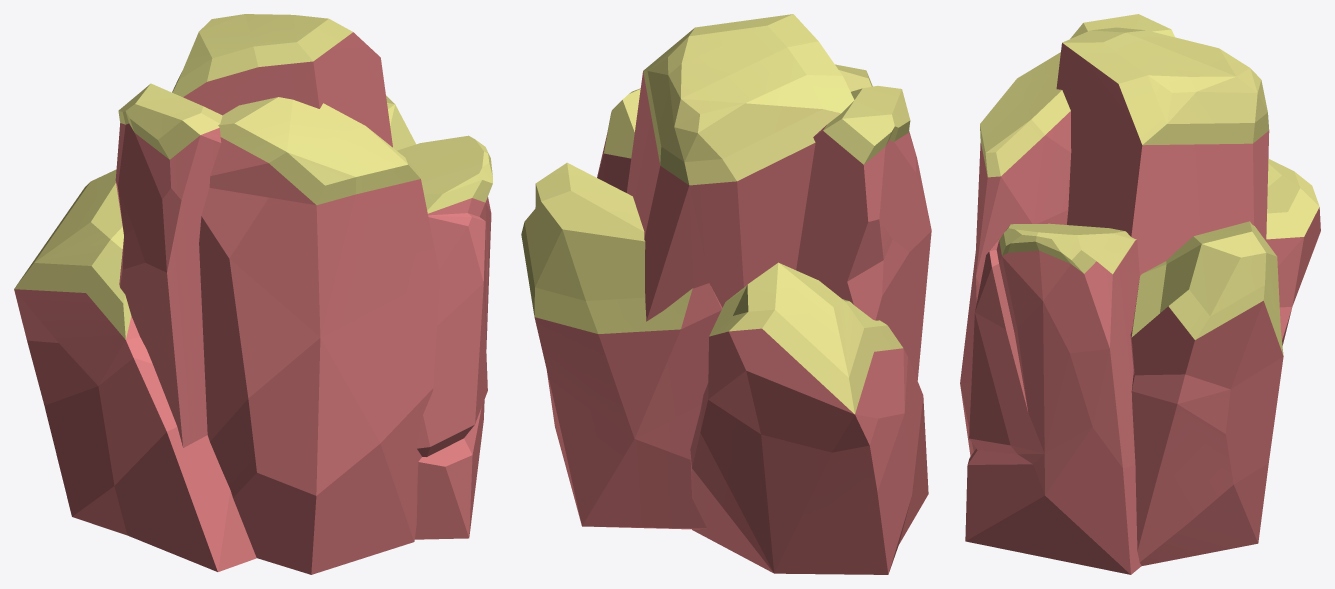
File: moss-5.fbx
3 views of the same model, side by side, from view 1: azimuth 30°, elevation 25°; view 2: azimuth 150°, elevation 25°; view 3: azimuth 270°, elevation 25° (orthographic). The views are drawn at different scales.
Visible parts, largest first — view 1: moss-5; view 2: moss-5; view 3: moss-5.
Boxes of the visible parts, x1,y1,x2,y2 form: moss-5: (14,14,492,574); moss-5: (521,14,931,574); moss-5: (960,14,1320,574).
Size of the model in its own units: 461 by 557 by 402.
